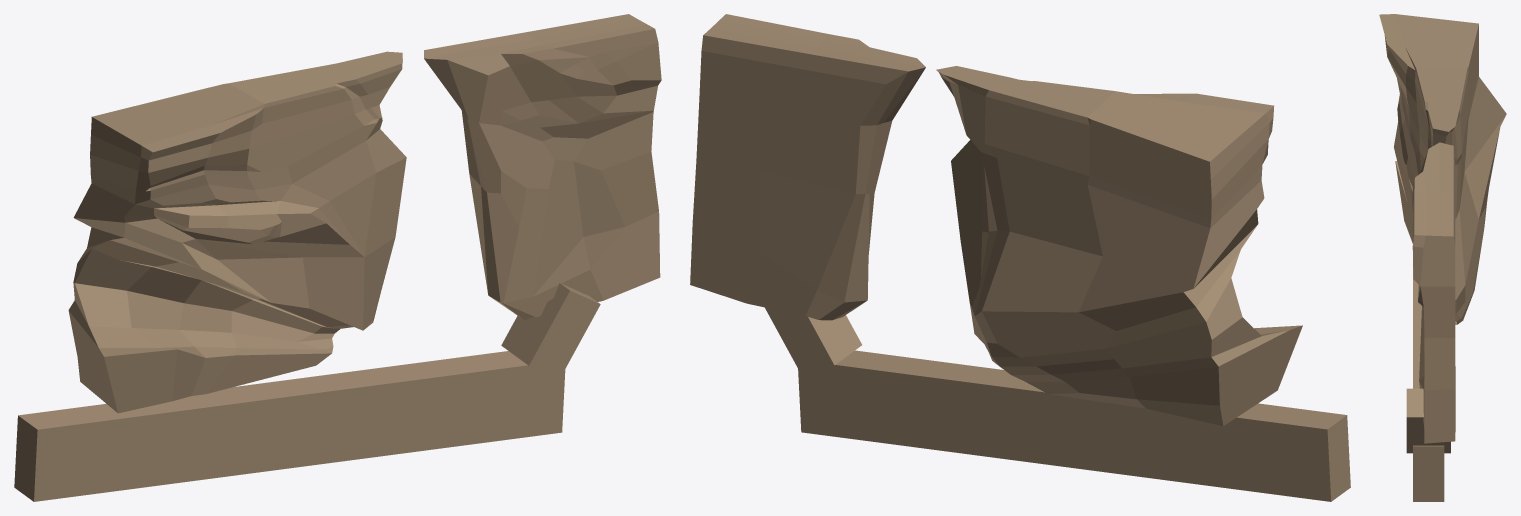
Rendered from Special_rock.fbx.
3 renders of one model, left to right at view 1: azimuth 30°, elevation 25°; view 2: azimuth 150°, elevation 25°; view 3: azimuth 270°, elevation 25°, orthographic. The views are drawn at different scales.
Visible parts, largest first — view 1: Special_rock01, Special_rock02, Cube.004, Cube.001; view 2: Special_rock01, Special_rock02, Cube.004, Cube.001; view 3: Special_rock01, Special_rock02, Cube.004, Cube.001.
Part boxes in pixels (bbox=[...]): Special_rock01: bbox=[68, 51, 406, 413]; Special_rock02: bbox=[424, 14, 661, 319]; Cube.004: bbox=[14, 351, 565, 501]; Cube.001: bbox=[501, 283, 600, 379]; Special_rock01: bbox=[936, 66, 1302, 426]; Special_rock02: bbox=[690, 14, 925, 320]; Cube.004: bbox=[798, 350, 1350, 501]; Cube.001: bbox=[765, 307, 861, 378]; Special_rock01: bbox=[1379, 14, 1506, 324]; Special_rock02: bbox=[1412, 142, 1455, 443]; Cube.004: bbox=[1413, 267, 1444, 501]; Cube.001: bbox=[1406, 388, 1450, 453].
Bounding box in the file's own units: 22586 × 13661 × 4941.
